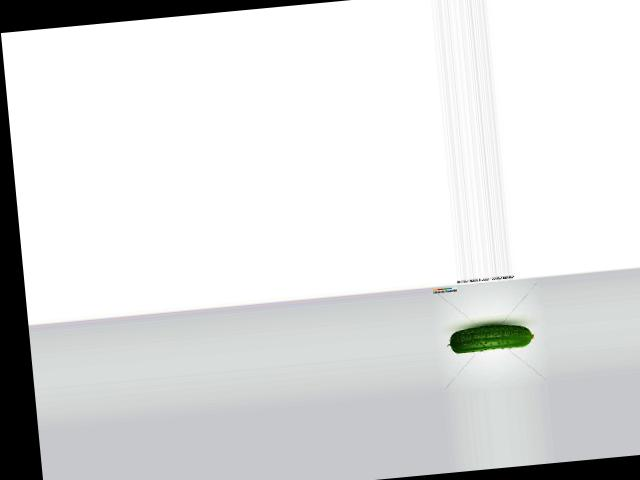cucumber: (446, 321, 535, 354)
